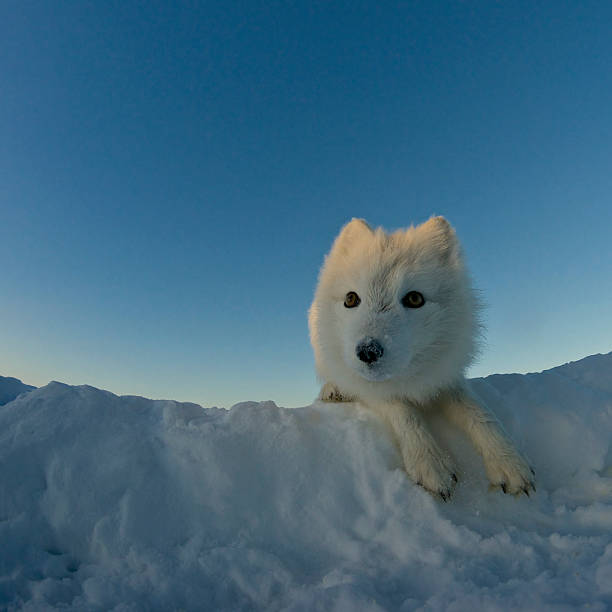arcticfox: (328, 243, 438, 381)
